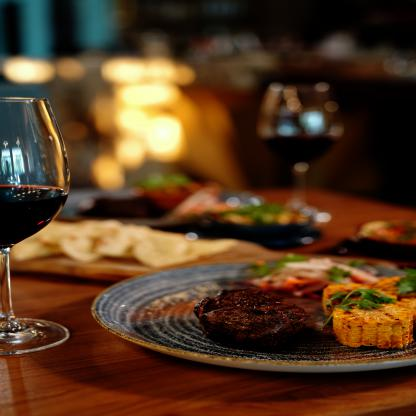Carne: (184, 282, 326, 352)
